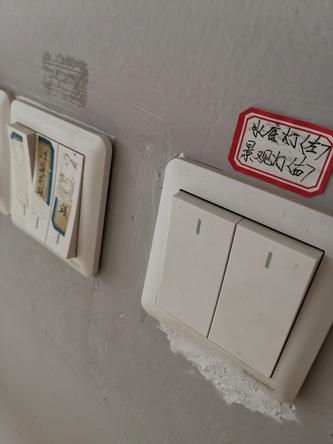switch: (204, 205, 329, 384), (134, 177, 238, 338), (44, 139, 83, 260), (5, 117, 36, 231)
